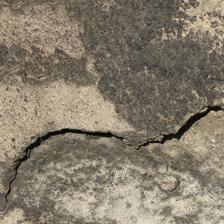Crack: (3, 51, 219, 160)
